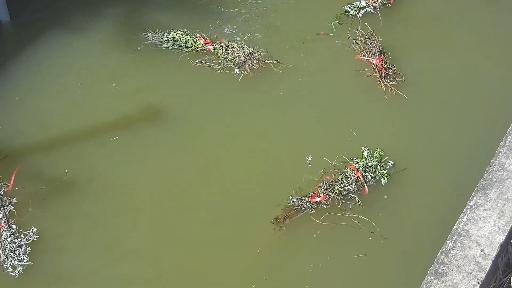twig: (230, 143, 406, 251), (143, 21, 288, 84), (1, 165, 45, 281), (346, 28, 401, 95), (336, 0, 405, 23)
